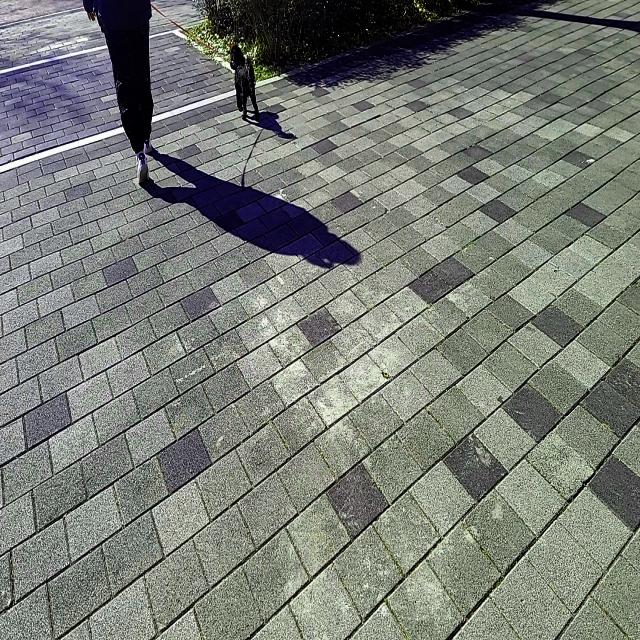Leashed_Dog: (129, 0, 259, 121)
